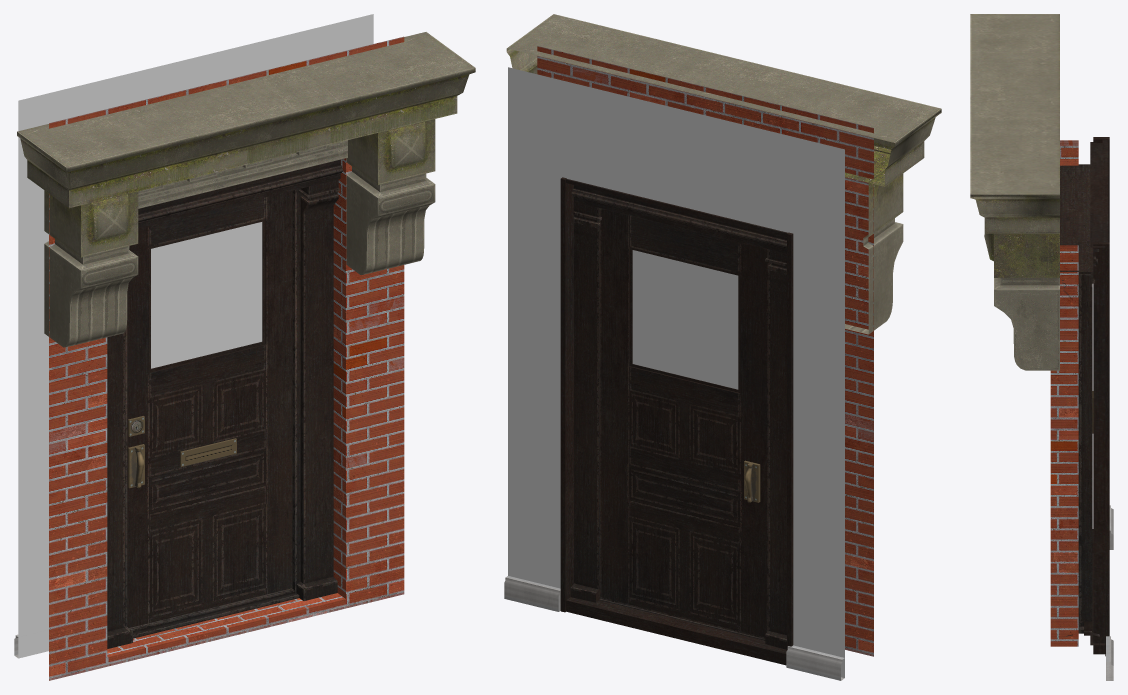
The model's file is House_02_Door_02.fbx.
3 renders of one model, left to right at view 1: azimuth 30°, elevation 25°; view 2: azimuth 150°, elevation 25°; view 3: azimuth 270°, elevation 25°, orthographic. The views are drawn at different scales.
Visible parts, largest first — view 1: House_02_Wall_Door_02_LOD0, House_02_Door_02_LOD0; view 2: House_02_Wall_Door_02_LOD0, House_02_Door_02_LOD0; view 3: House_02_Wall_Door_02_LOD0.
Boxes of the visible parts, box(x1,y1,x2,y2) form: House_02_Wall_Door_02_LOD0: box(14, 14, 475, 680); House_02_Door_02_LOD0: box(127, 191, 292, 627); House_02_Wall_Door_02_LOD0: box(504, 14, 941, 680); House_02_Door_02_LOD0: box(600, 208, 771, 638); House_02_Wall_Door_02_LOD0: box(970, 14, 1113, 680).
Size of what is drawn, in the model's own units: 230 by 300 by 77.29.
